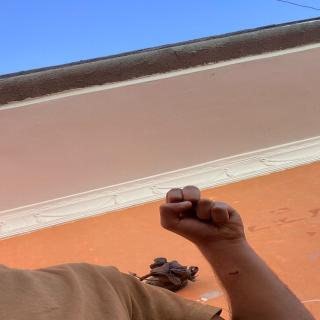QAAF: (148, 175, 262, 249)
